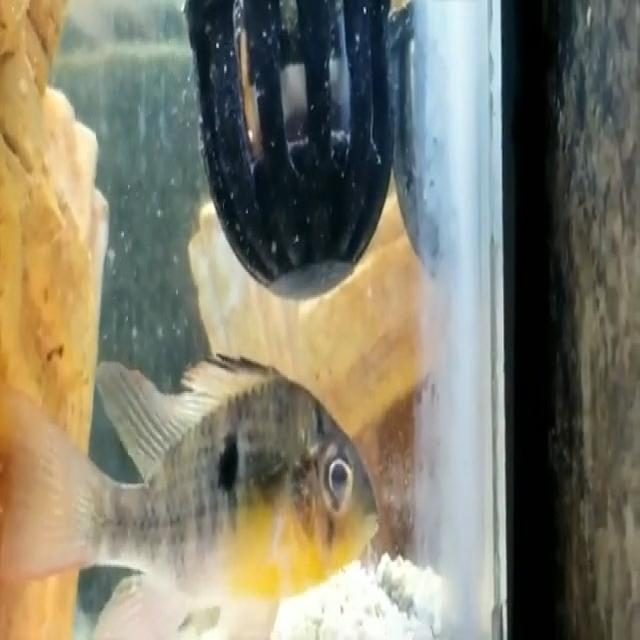fish: (4, 344, 397, 640)
